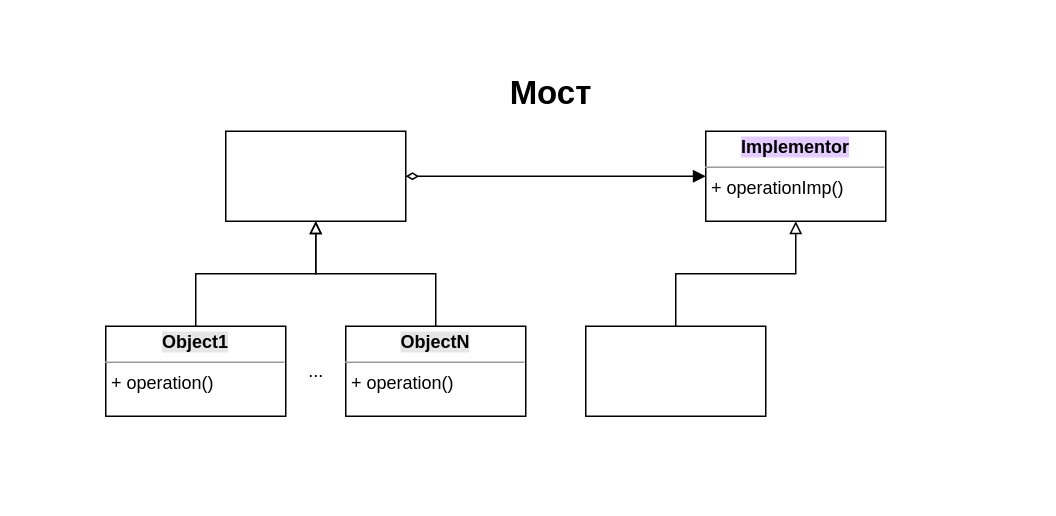
Image size: 1056x516. Some labels were removed from this diagram. The shapes that lost their labels are listed below. From the top down, each one's centre as x and y in pixels, then its label:
At [315,175]: "Abstraction + operation()".
At [675,370]: "ConImpA + operationImp()".
